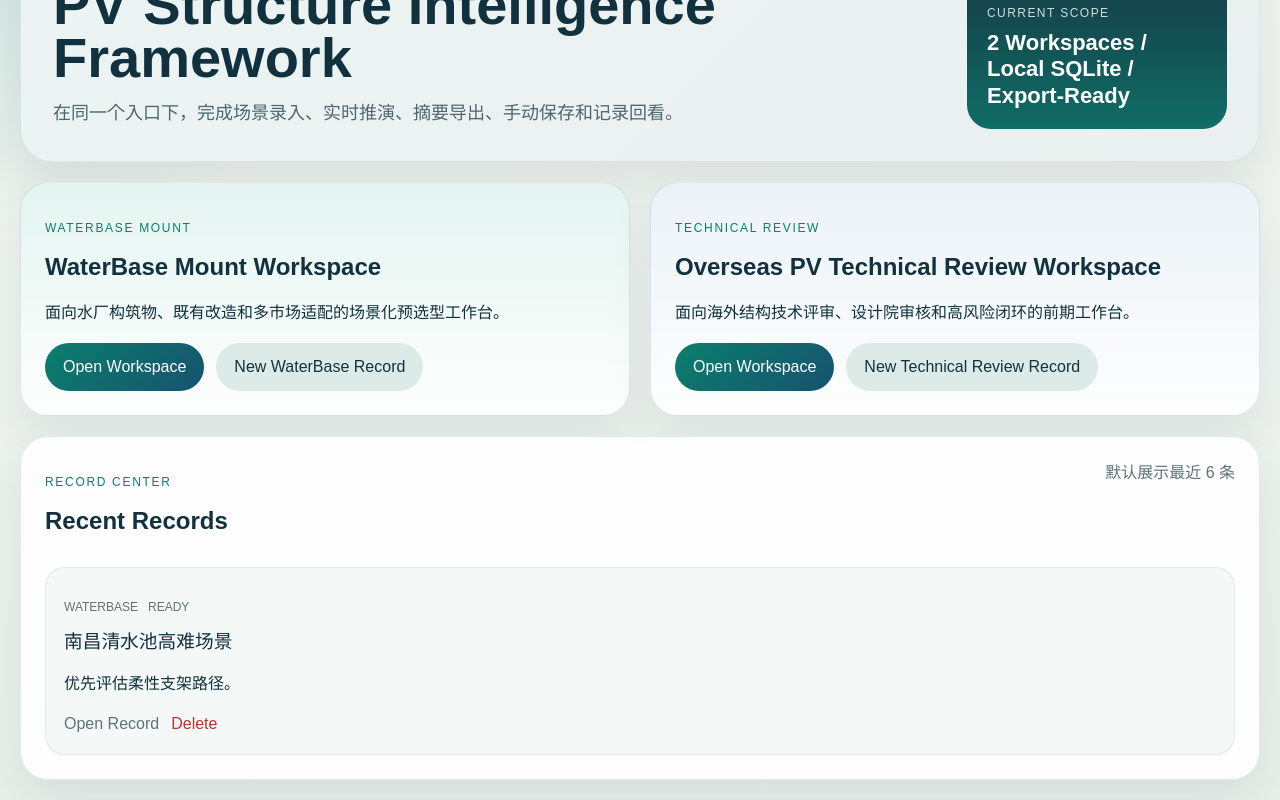
V1 Working Tool App › deletes a recent record from the home page
(page scrolled)
Expected: the heading "南昌清水池高难场景" is shown, [64,631,232,652]
Click the button with aria-label "删除记录 南昌清水池高难场景" at (194, 724), box [171,712,218,736]
(page scrolled)
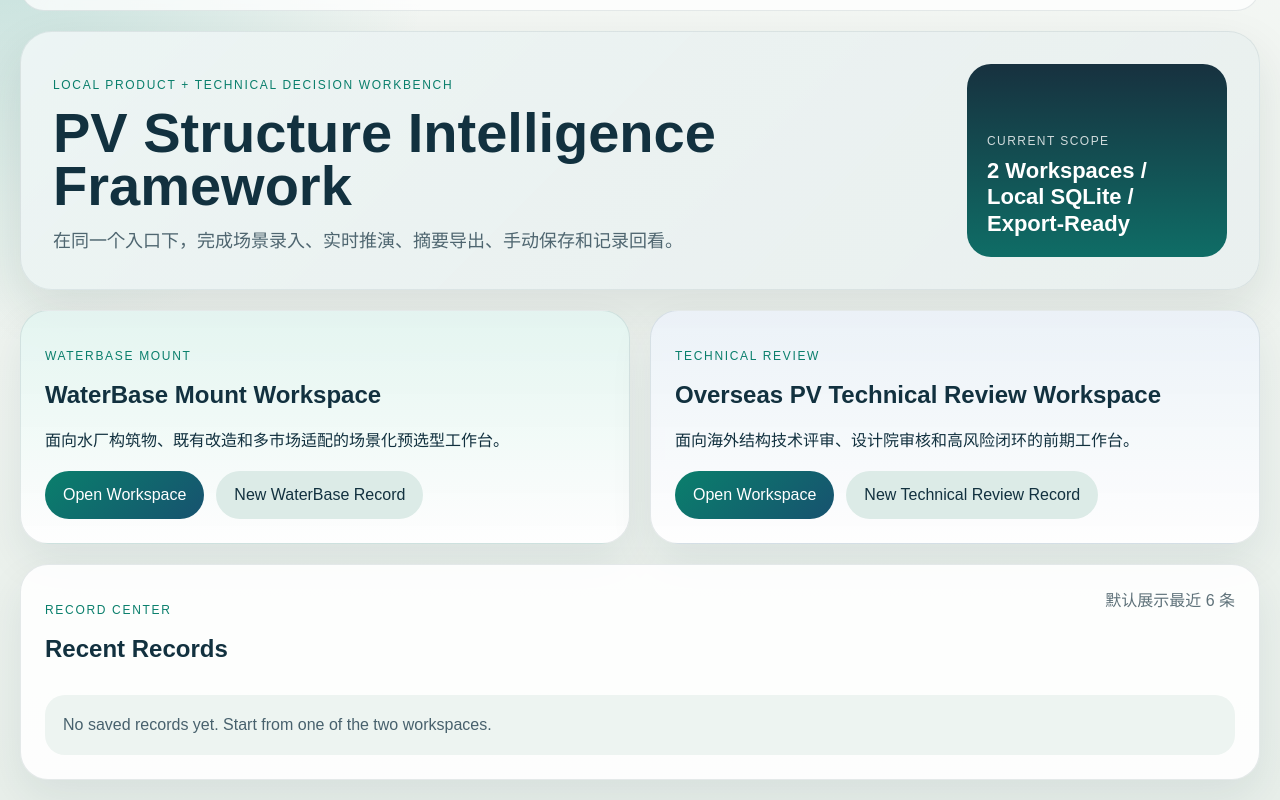
Result: the text "No saved records yet. Start from one of the two workspaces." is shown at [45,695,1235,755]
